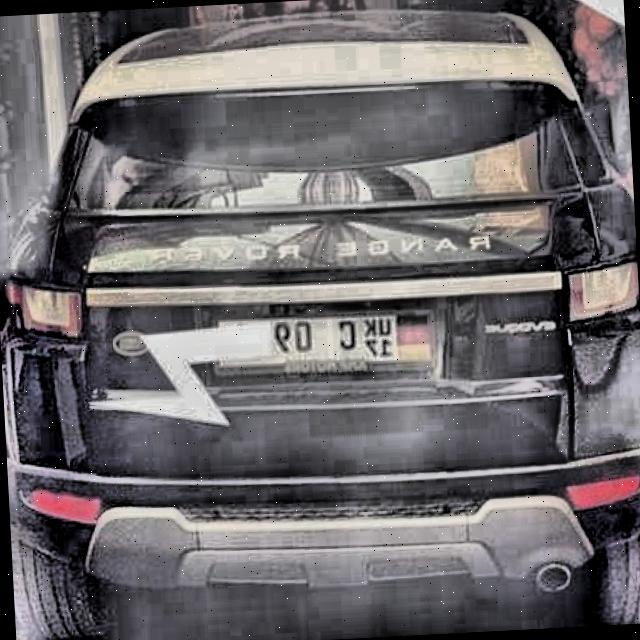license_plate: (230, 307, 440, 384)
